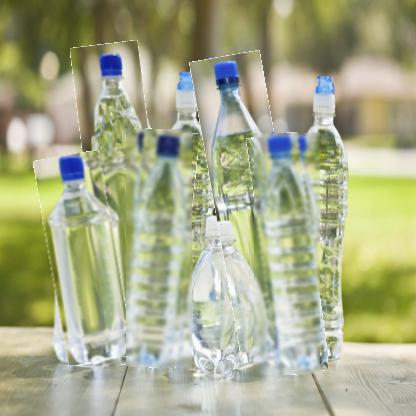plastic-bottles: (203, 53, 300, 364), (81, 43, 167, 356), (43, 153, 126, 365), (255, 134, 322, 376), (127, 130, 194, 369)
